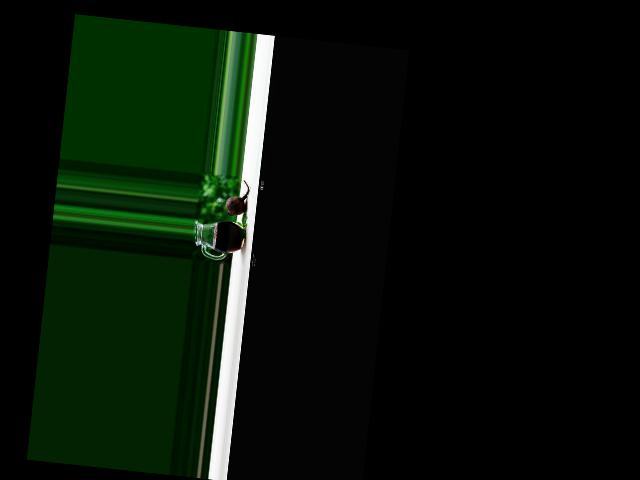beet: (225, 179, 250, 217)
